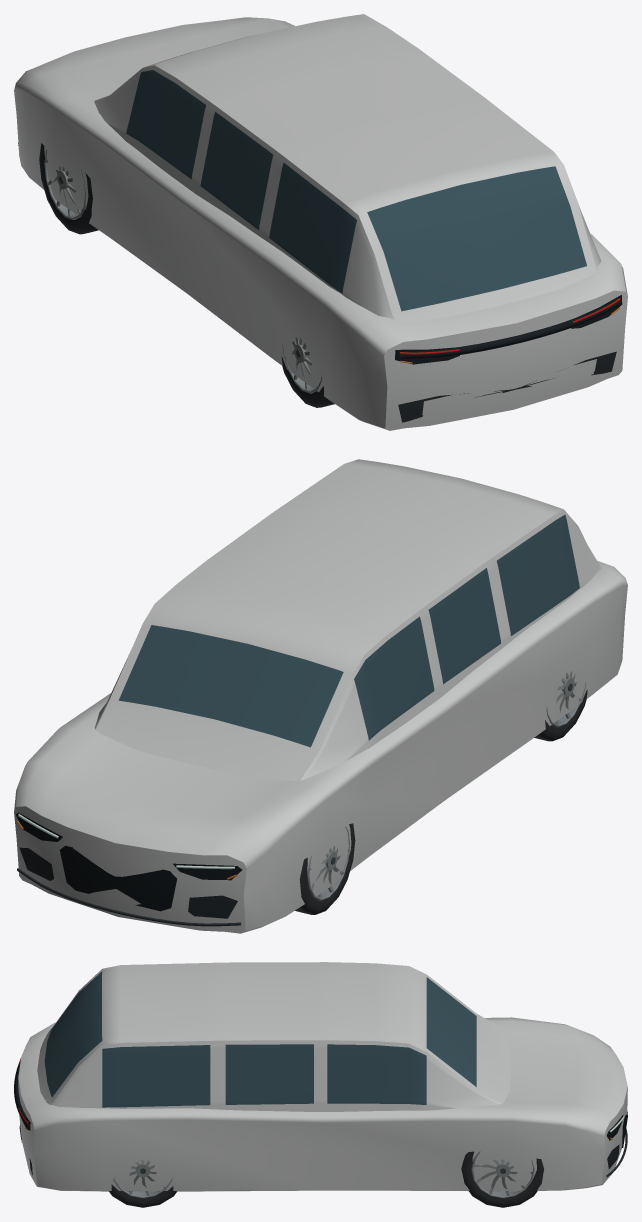
Rendered from arden-rs-lod.glb.
3 views of the same model, one above another, from view 1: azimuth 30°, elevation 25°; view 2: azimuth 150°, elevation 25°; view 3: azimuth 270°, elevation 25° (orthographic). The views are drawn at different scales.
Visible parts, largest first — view 1: paint, glass, trim, wheelSurface (×2); view 2: paint, glass, trim, wheelSurface (×2); view 3: paint, glass, wheelSurface (×2), trim.
Part boxes in pixels (x1,y1,x2,y2): paint: [14, 14, 627, 430]; glass: [126, 70, 586, 311]; trim: [18, 143, 622, 422]; wheelSurface (×2): [39, 143, 334, 407]; paint: [14, 459, 627, 933]; glass: [118, 515, 579, 747]; trim: [16, 812, 242, 926]; wheelSurface (×2): [295, 671, 587, 914]; paint: [18, 962, 627, 1191]; glass: [44, 971, 476, 1107]; wheelSurface (×2): [109, 1151, 544, 1207]; trim: [14, 1058, 627, 1177].
Bounding box in the file's own units: 1.95 × 1.47 × 5.
